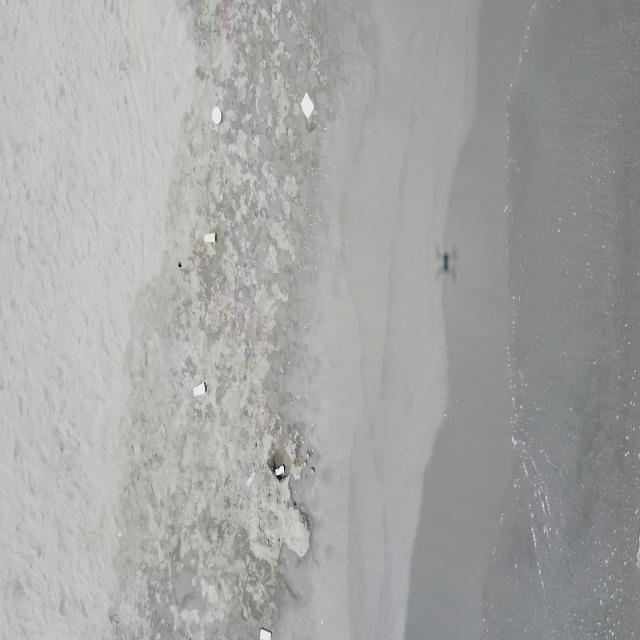take-away-containers: (301, 92, 314, 118), (212, 106, 222, 125), (260, 627, 271, 640)
takeaway-cup: (193, 382, 206, 397), (246, 470, 256, 488), (204, 232, 217, 244), (275, 464, 285, 476)
